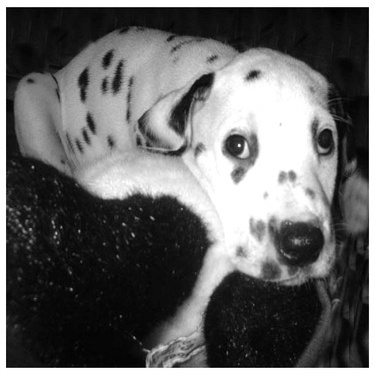dog: (7, 23, 365, 363)
